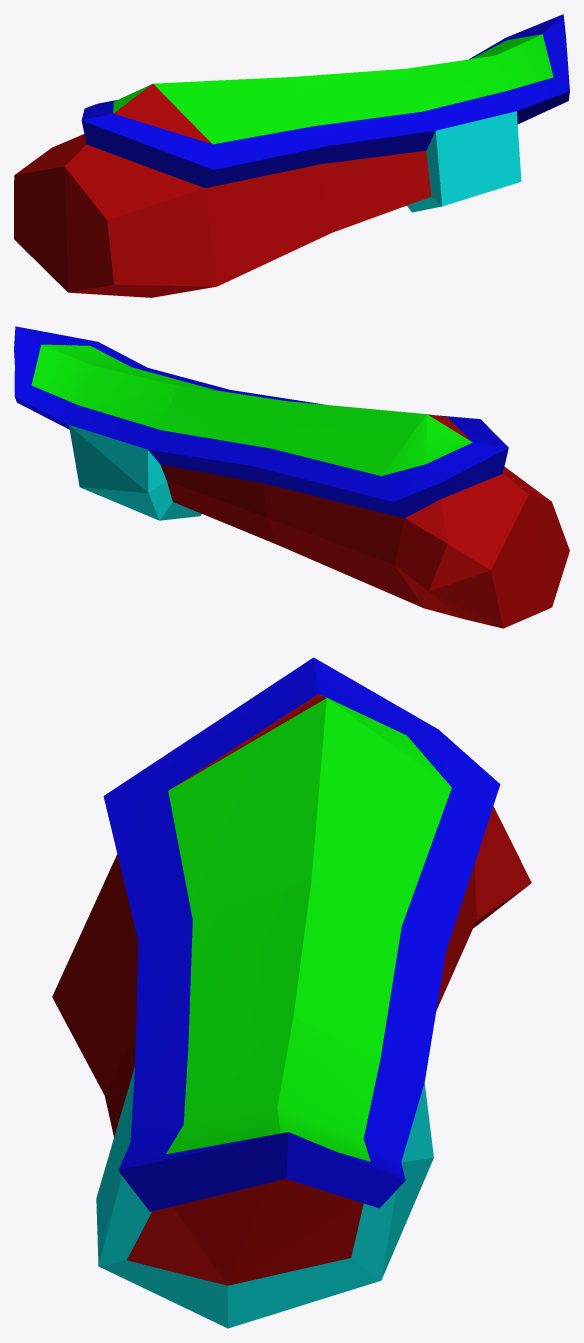
Rendered from Chr_ArmLowerLeft_Male_Static_12.fbx.
3 renders of one model, top to bottom at view 1: azimuth 30°, elevation 25°; view 2: azimuth 150°, elevation 25°; view 3: azimuth 270°, elevation 25°, orthographic. The views are drawn at different scales.
Parts seen in each view (by area): view 1: Chr_ArmLowerLeft_Male_12; view 2: Chr_ArmLowerLeft_Male_12; view 3: Chr_ArmLowerLeft_Male_12.
Boxes of the visible parts, left/top/right/bottom form: Chr_ArmLowerLeft_Male_12: left=14, top=14, right=569, bottom=297; Chr_ArmLowerLeft_Male_12: left=14, top=326, right=569, bottom=628; Chr_ArmLowerLeft_Male_12: left=52, top=657, right=531, bottom=1328.
Bounding box in the file's own units: 33.59 × 12.22 × 13.71.
